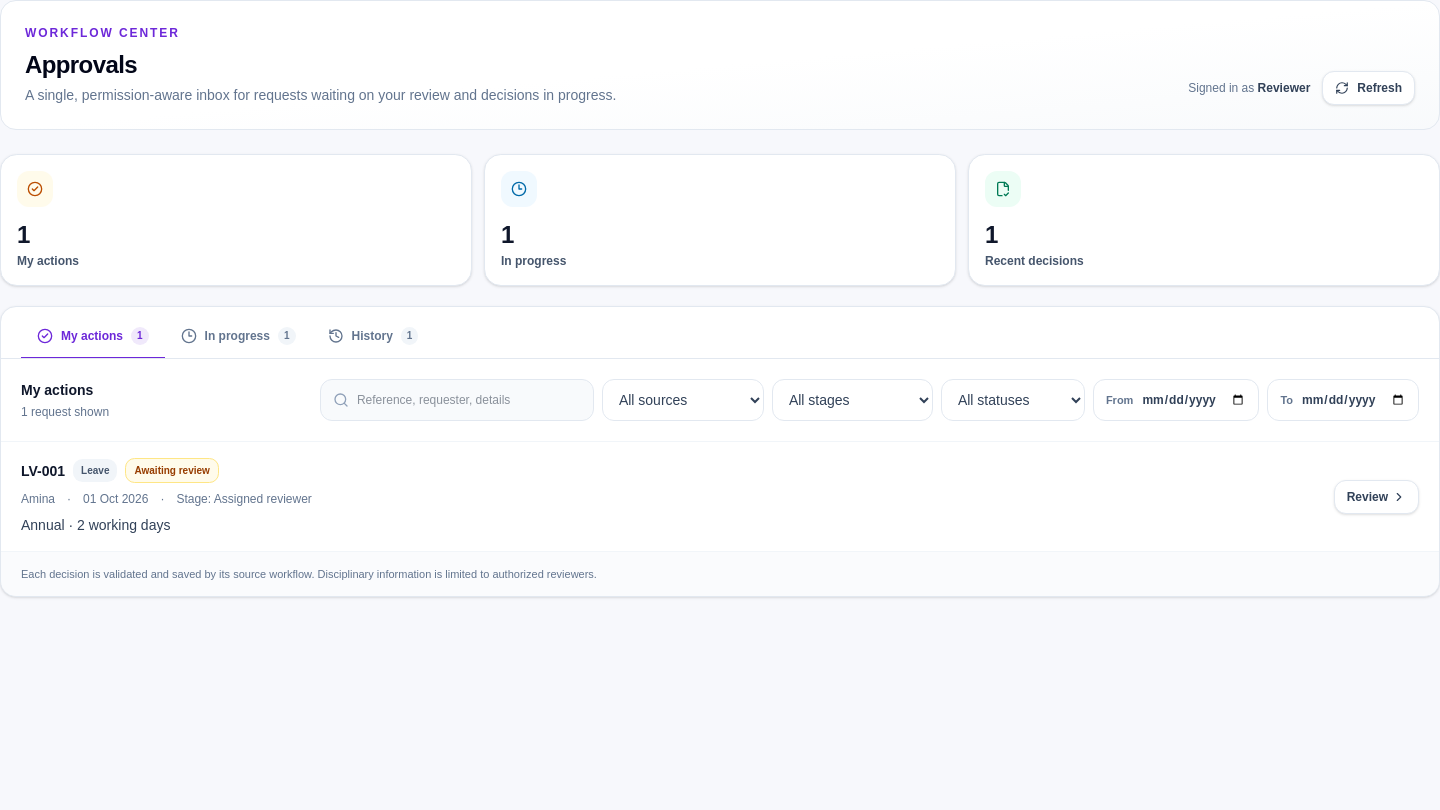
Test: approvals work inbox › separates assigned actions, in-progress items, and history
Check: the text "LV-001" is shown, box [21,460,65,480]
Check: the text "EXP-001" is not shown
Click the tab "In progress 1": (238, 337) [165,315,312,359]
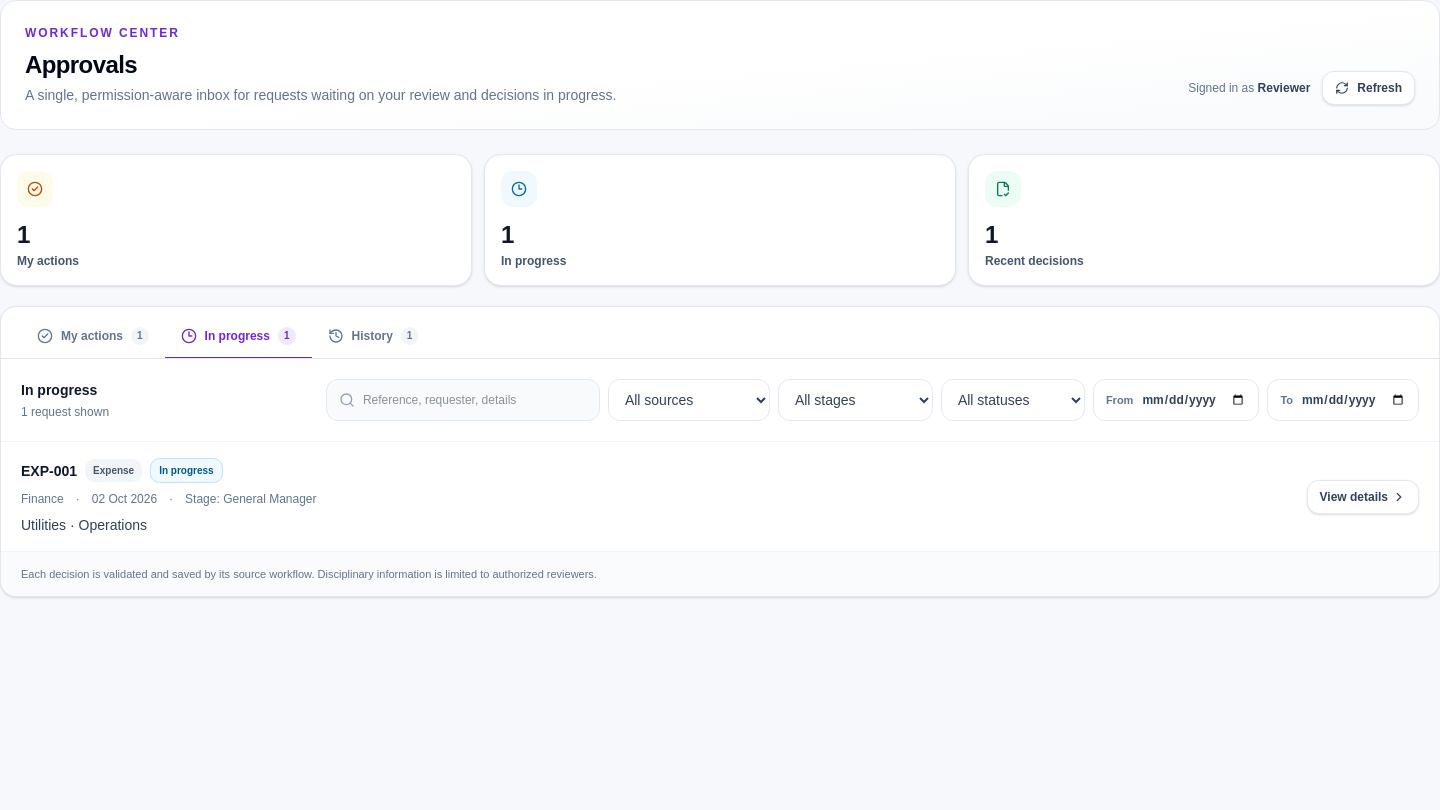
Check: the text "EXP-001" is shown, box [21,460,77,480]
Click the tab "History 1": (373, 337) [312,315,434,359]
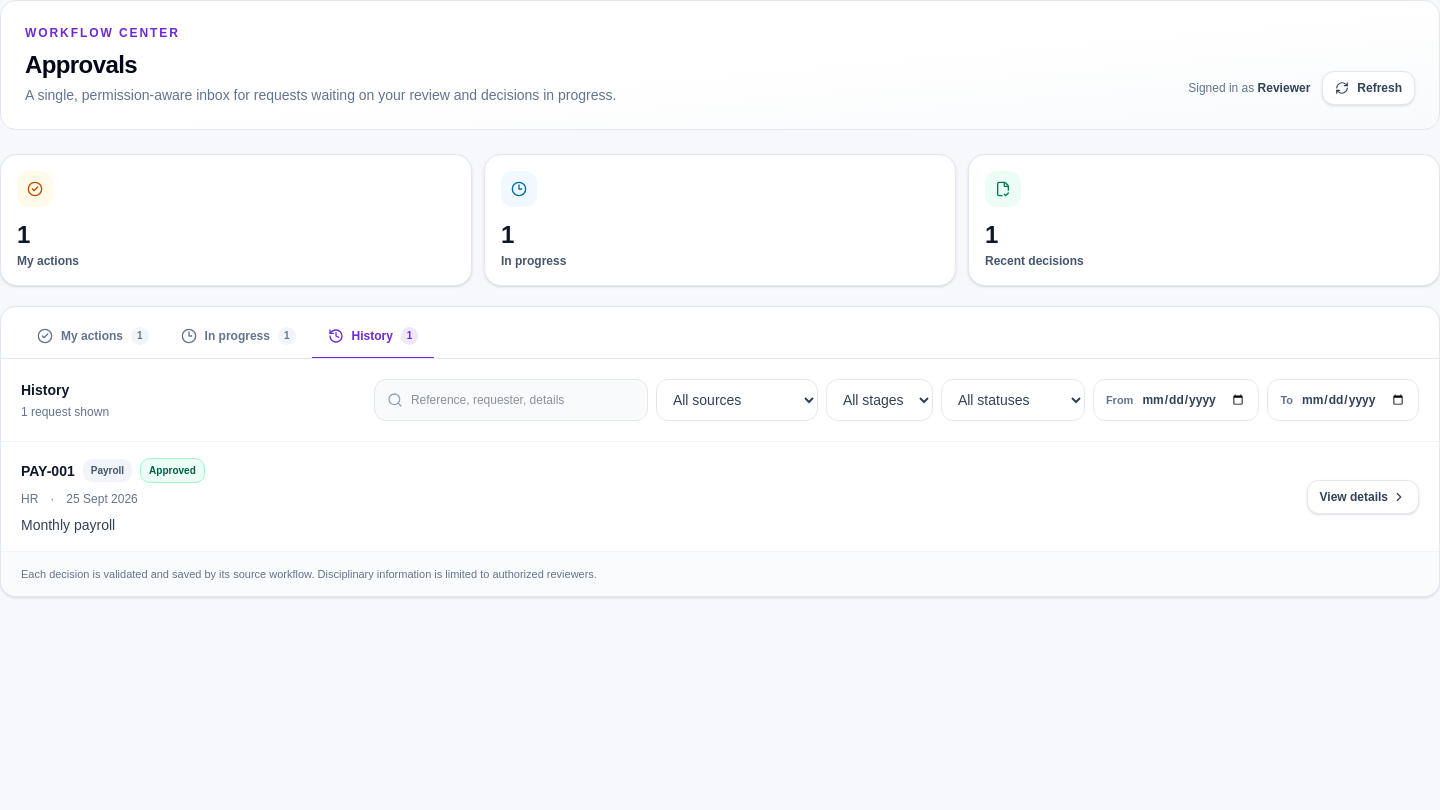
Check: the text "PAY-001" is shown, box [21,460,75,480]
